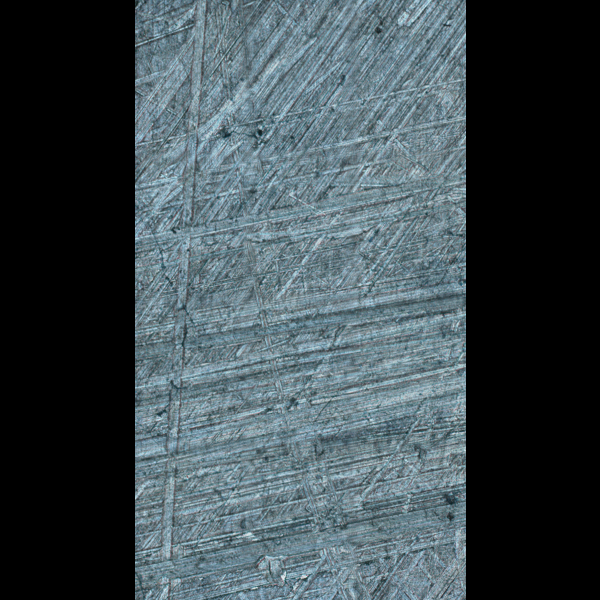d: (205, 0, 378, 599), (134, 166, 464, 304), (143, 0, 214, 600)
